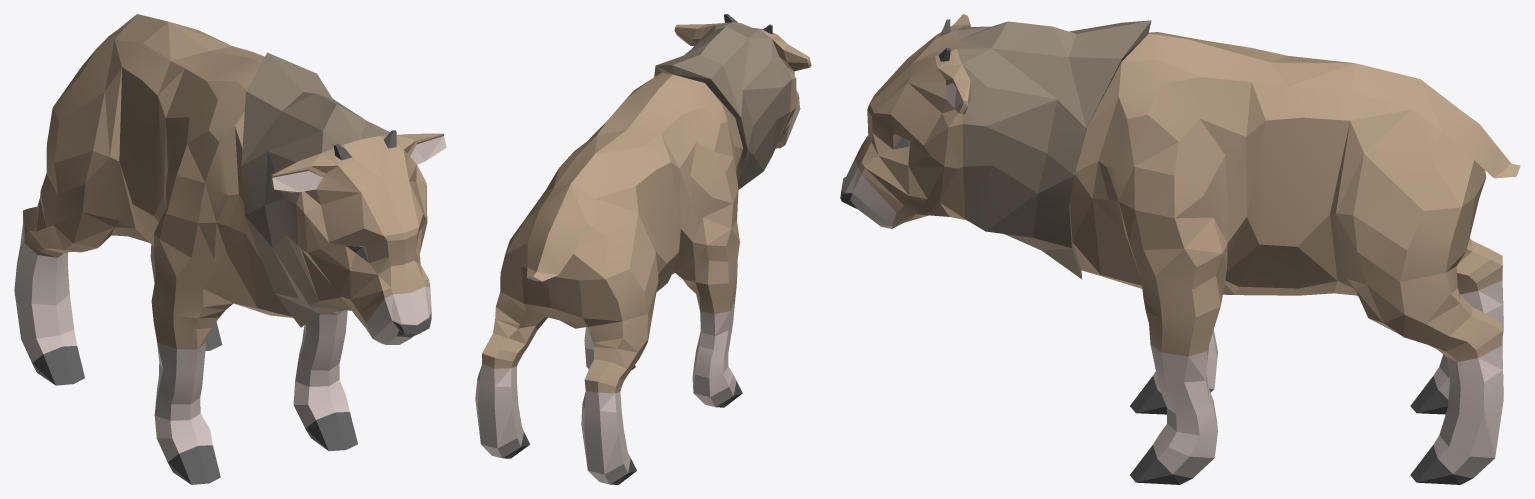
Rendered from MuskaloModel_Still.fbx.
3 views of the same model, side by side, from view 1: azimuth 30°, elevation 25°; view 2: azimuth 150°, elevation 25°; view 3: azimuth 270°, elevation 25° (orthographic). The views are drawn at different scales.
Visible parts, largest first — view 1: Muskalo03; view 2: Muskalo03; view 3: Muskalo03.
Part boxes in pixels (x1,y1,x2,y2): Muskalo03: (14,14,446,484); Muskalo03: (475,14,811,484); Muskalo03: (840,14,1520,484).
Bounding box in the file's own units: 1.23 × 2.56 × 3.73.
